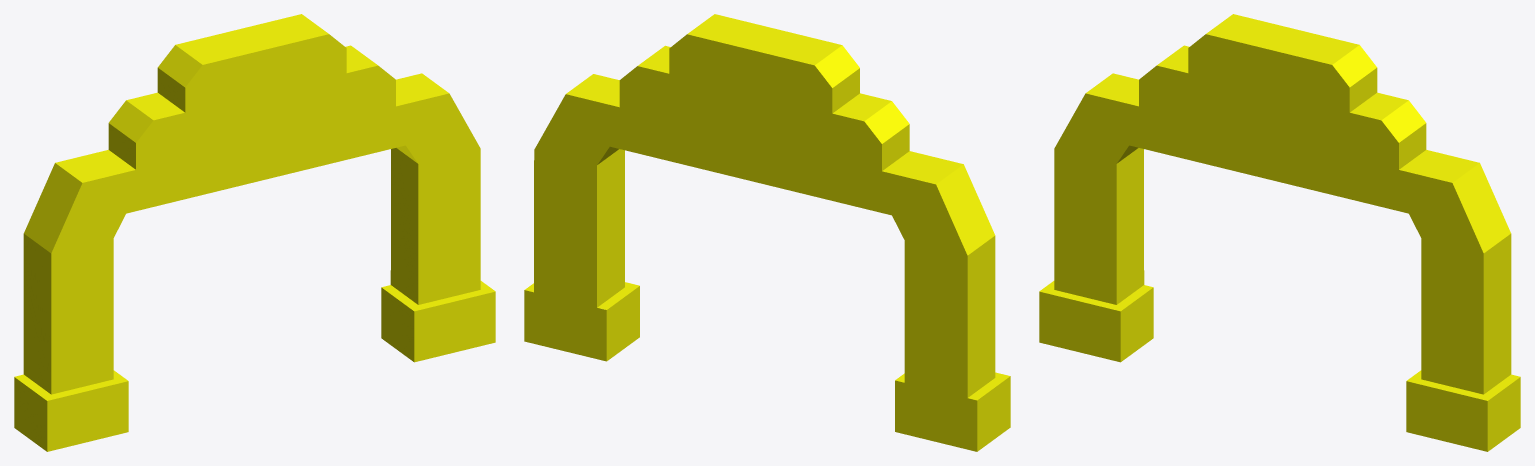
Rendered from Cong.002.gltf.
3 views of the same model, side by side, from view 1: azimuth 30°, elevation 25°; view 2: azimuth 150°, elevation 25°; view 3: azimuth 330°, elevation 25° (orthographic).
Parts seen in each view (by area): view 1: Cong.002; view 2: Cong.002; view 3: Cong.002.
Boxes of the visible parts, bbox=[...] form: Cong.002: bbox=[14, 14, 495, 451]; Cong.002: bbox=[524, 14, 1010, 451]; Cong.002: bbox=[1039, 14, 1520, 451].
Size of the model in its own units: 23.77 by 17.4 by 3.03.
Materials: 1 (1 with a texture image).
